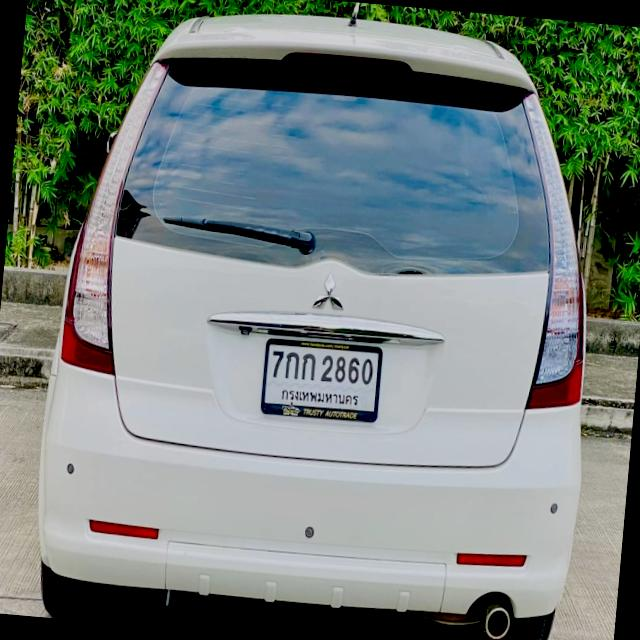license_plate: (262, 334, 384, 424)
